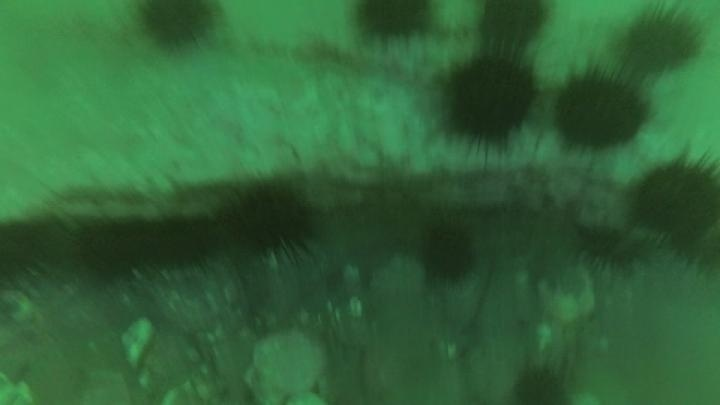echinus: (441, 50, 538, 149), (630, 150, 719, 253), (553, 71, 649, 154), (221, 184, 317, 264), (618, 6, 703, 77), (73, 222, 149, 283), (1, 217, 61, 293), (416, 215, 480, 286), (139, 218, 218, 273), (136, 1, 219, 53), (573, 221, 651, 275), (475, 1, 550, 52), (352, 1, 436, 44), (510, 362, 571, 405)
scallop: (242, 328, 325, 405)
